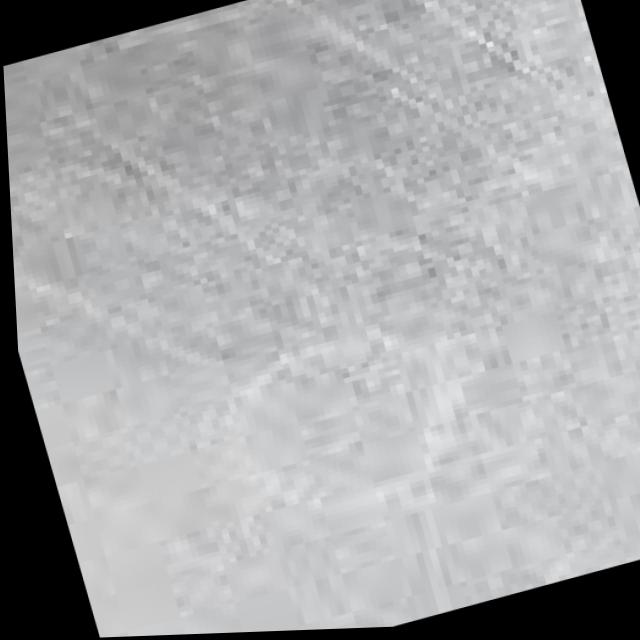metal-plates: (4, 1, 640, 639)
